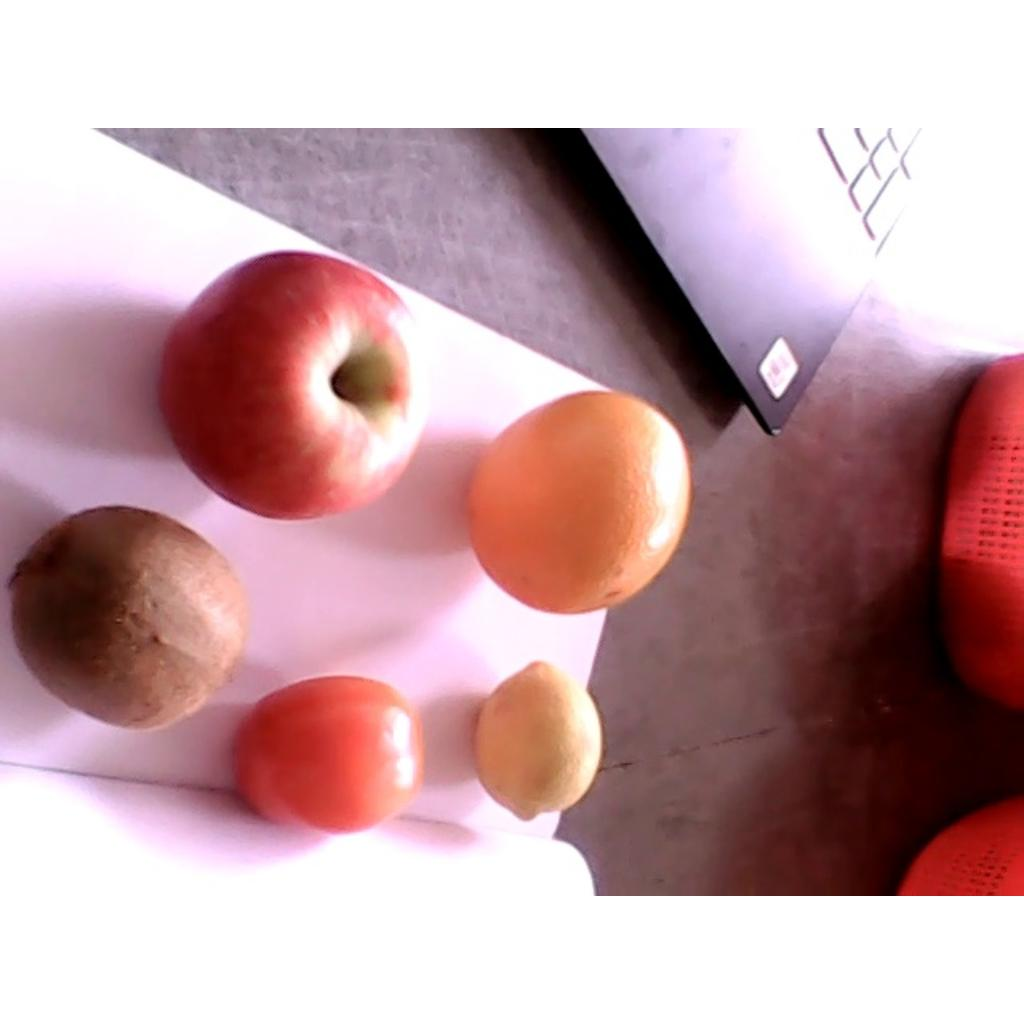apple: (157, 251, 430, 523)
kiwi: (8, 507, 247, 732)
lemon: (474, 662, 603, 823)
orange: (465, 393, 692, 613)
tomato: (227, 675, 426, 835)
